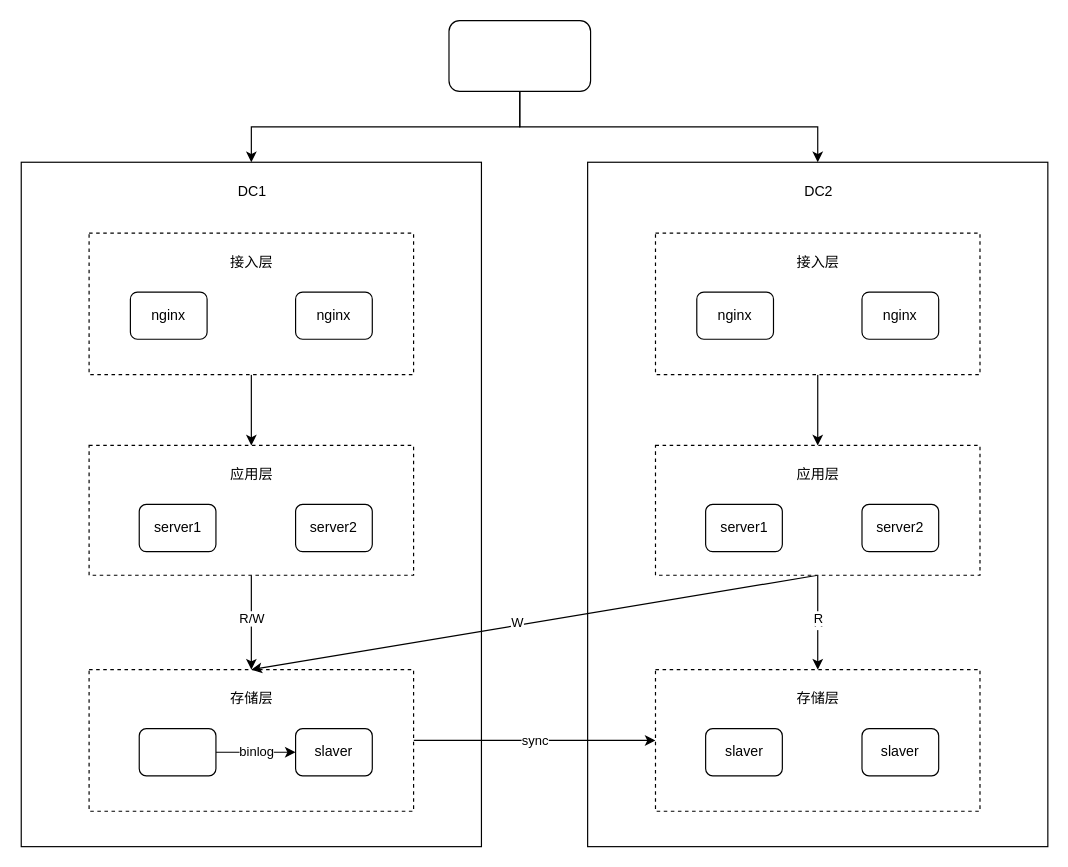
Some shapes in this 1068 by 867 pixel diagram are drawn without their labels. Each missing label, with the centre of its shape:
DNS: point (519, 55)
master: point (177, 751)
